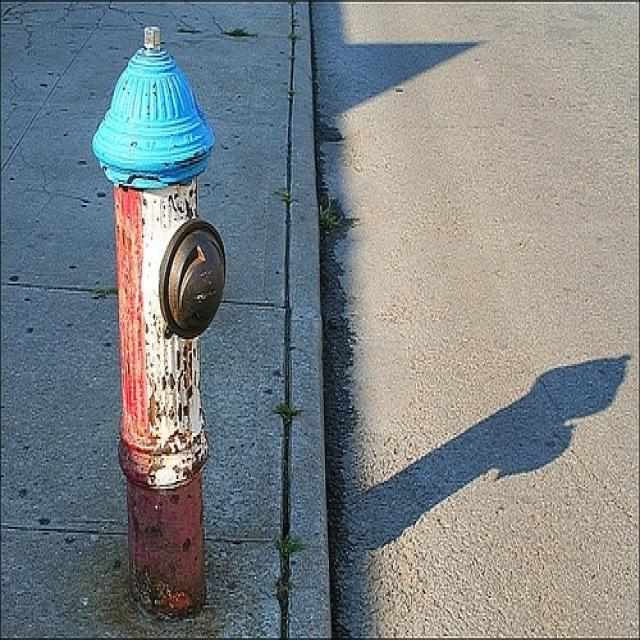fire_hydrant: (41, 57, 302, 640)
